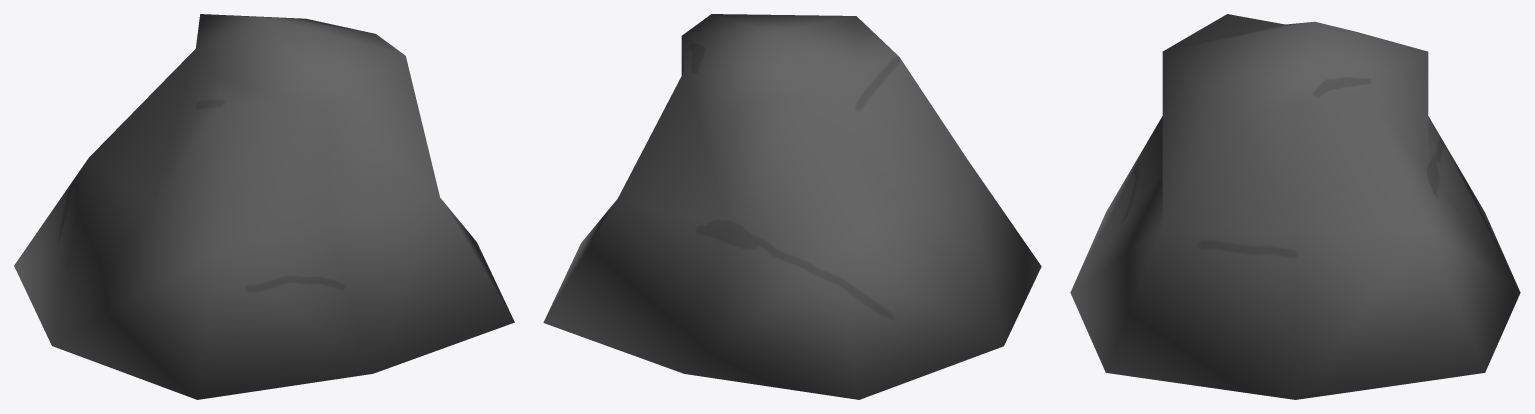
The model's file is Rock1.obj.
The picture shows the model from 3 angles, left to right: view 1: azimuth 30°, elevation 25°; view 2: azimuth 150°, elevation 25°; view 3: azimuth 270°, elevation 25°; orthographic projection. The views are drawn at different scales.
Parts seen in each view (by area): view 1: Cube.002; view 2: Cube.002; view 3: Cube.002.
Part boxes in pixels (x1,y1,x2,y2): Cube.002: (14, 14, 514, 399); Cube.002: (543, 14, 1041, 399); Cube.002: (1070, 14, 1520, 399).
Size of the model in its own units: 2.95 by 1.77 by 2.61.
1 material, 1 textured.
